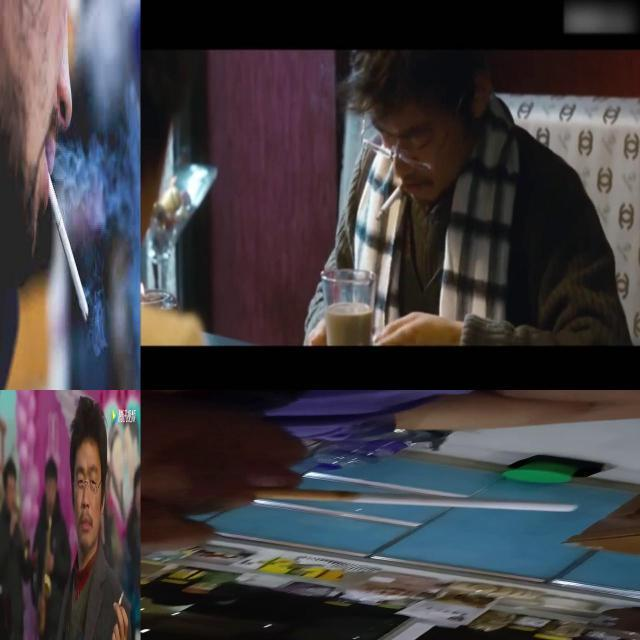smoking: (255, 488, 579, 512), (44, 160, 89, 325), (375, 181, 408, 221), (118, 590, 124, 608)
